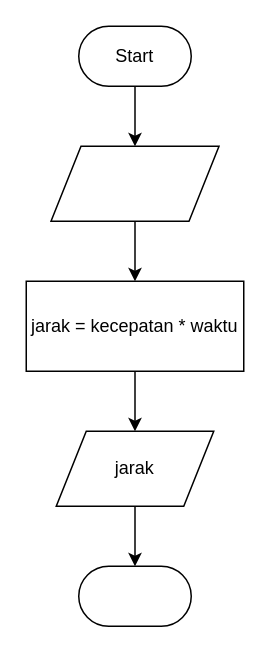
Image size: 270x653. Some labels were removed from this diagram. The shapes that lost their labels are listed below. From the top down, each one's centre as x and y in pixels, then its label:
At point (134, 183): "kecepatan waktu".
At point (134, 595): "End".
